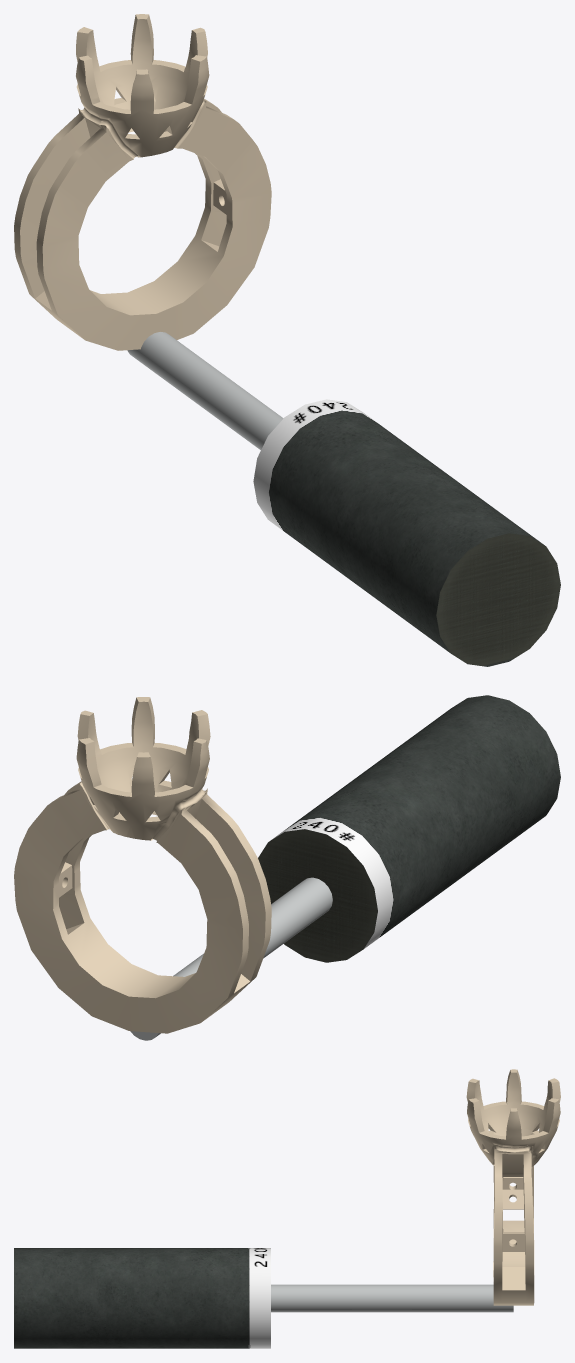
3 renders of one model, top to bottom at view 1: azimuth 30°, elevation 25°; view 2: azimuth 150°, elevation 25°; view 3: azimuth 270°, elevation 25°, orthographic. The views are drawn at different scales.
Parts seen in each view (by area): view 1: 403_ShaZhiBang_240, 403_PaoGuang_YinJie; view 2: 403_ShaZhiBang_240, 403_PaoGuang_YinJie; view 3: 403_ShaZhiBang_240, 403_PaoGuang_YinJie.
Part boxes in pixels (x1,y1,x2,y2): 403_ShaZhiBang_240: (127,332,560,666); 403_PaoGuang_YinJie: (14,14,271,350); 403_ShaZhiBang_240: (130,695,560,1040); 403_PaoGuang_YinJie: (14,697,271,1033); 403_ShaZhiBang_240: (14,1248,513,1348); 403_PaoGuang_YinJie: (466,1069,560,1305).
Size of the model in its own units: 2.21 by 3.31 by 6.49.
2 materials, 2 textured.
